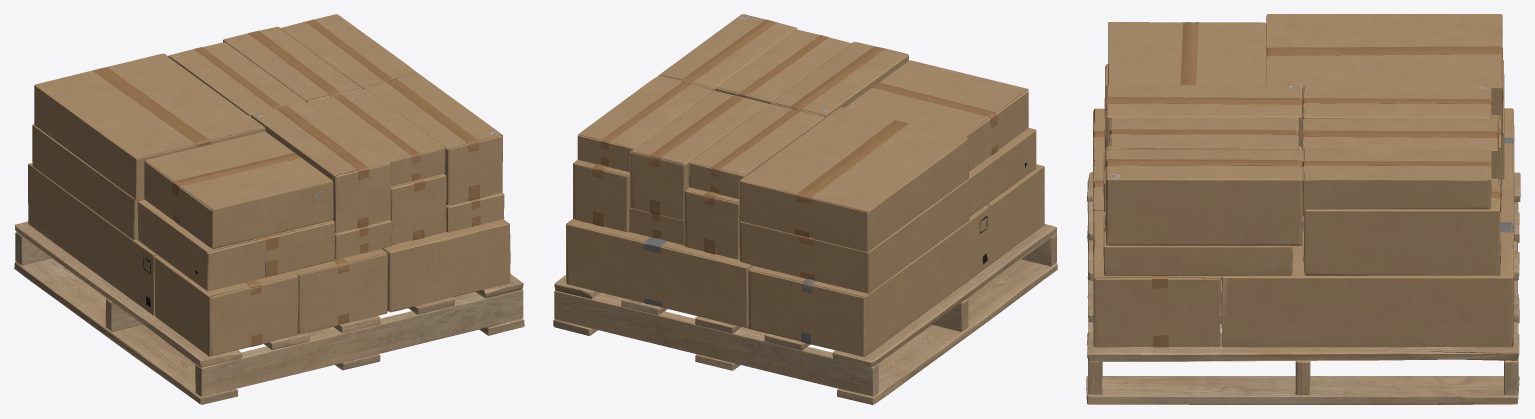
Rendered from pallet_load_a.glb.
The picture shows the model from 3 angles, left to right: view 1: azimuth 30°, elevation 25°; view 2: azimuth 150°, elevation 25°; view 3: azimuth 270°, elevation 25°; orthographic projection. The views are drawn at different scales.
Parts seen in each view (by area): view 1: pallet_load_a_mesh; view 2: pallet_load_a_mesh; view 3: pallet_load_a_mesh.
Part boxes in pixels (x1,y1,x2,y2): pallet_load_a_mesh: [14, 14, 524, 404]; pallet_load_a_mesh: [553, 14, 1057, 404]; pallet_load_a_mesh: [1086, 14, 1520, 404].
Size of the model in its own units: 0.9003 by 0.5046 by 0.9031.
Materials: 4 (4 with a texture image).
